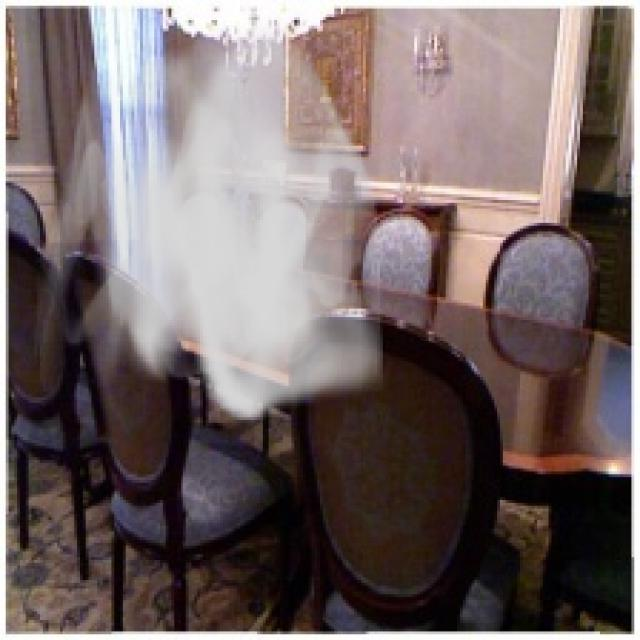smoke: (32, 14, 394, 426)
